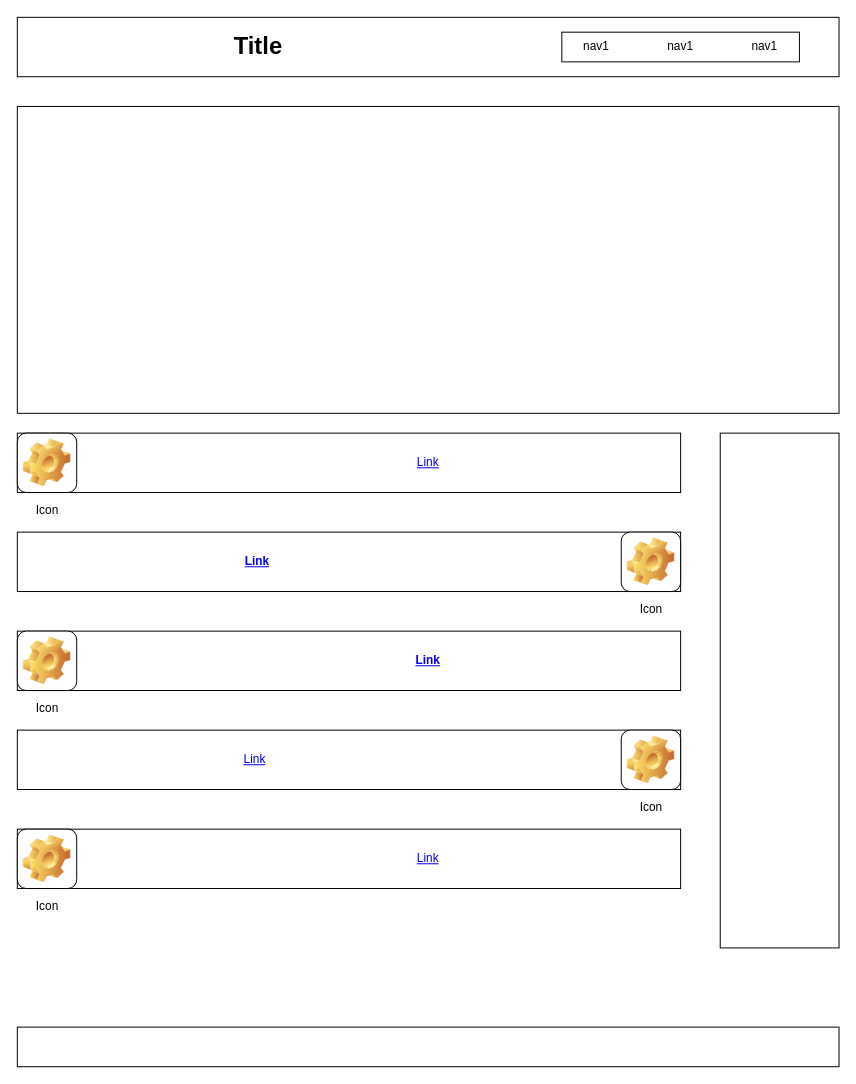
The diagram is 856 pixels wide and 1084 high, and some of its shapes have lost their labels. Each missing label, with the centre of its shape:
"footy" goes at (427,1046).
"neatpicture.jpg" goes at (427,259).
"This is your sidebar" goes at (779,690).
